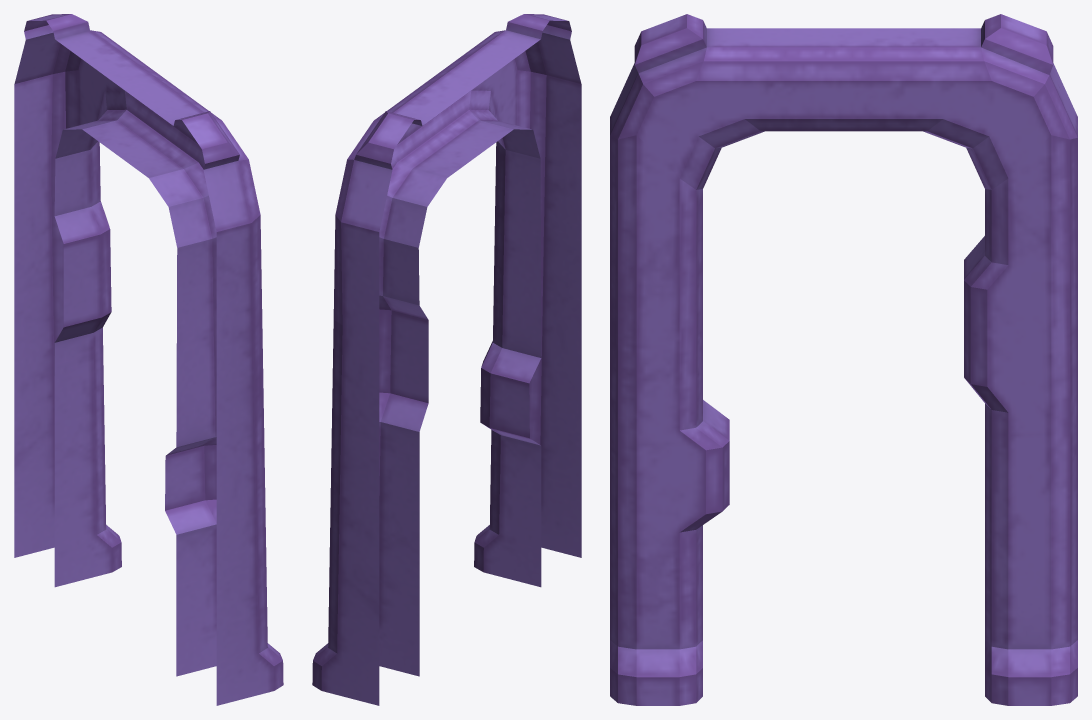
The model's file is BordePuerta.fbx.
3 renders of one model, left to right at view 1: azimuth 30°, elevation 25°; view 2: azimuth 150°, elevation 25°; view 3: azimuth 270°, elevation 25°, orthographic. The views are drawn at different scales.
Visible parts, largest first — view 1: pared_exterior.081; view 2: pared_exterior.081; view 3: pared_exterior.081.
Part boxes in pixels (x1,y1,x2,y2): pared_exterior.081: (14, 14, 283, 705); pared_exterior.081: (312, 14, 581, 705); pared_exterior.081: (610, 14, 1077, 705).
Size of the model in its own units: 35.75 by 250 by 163.
